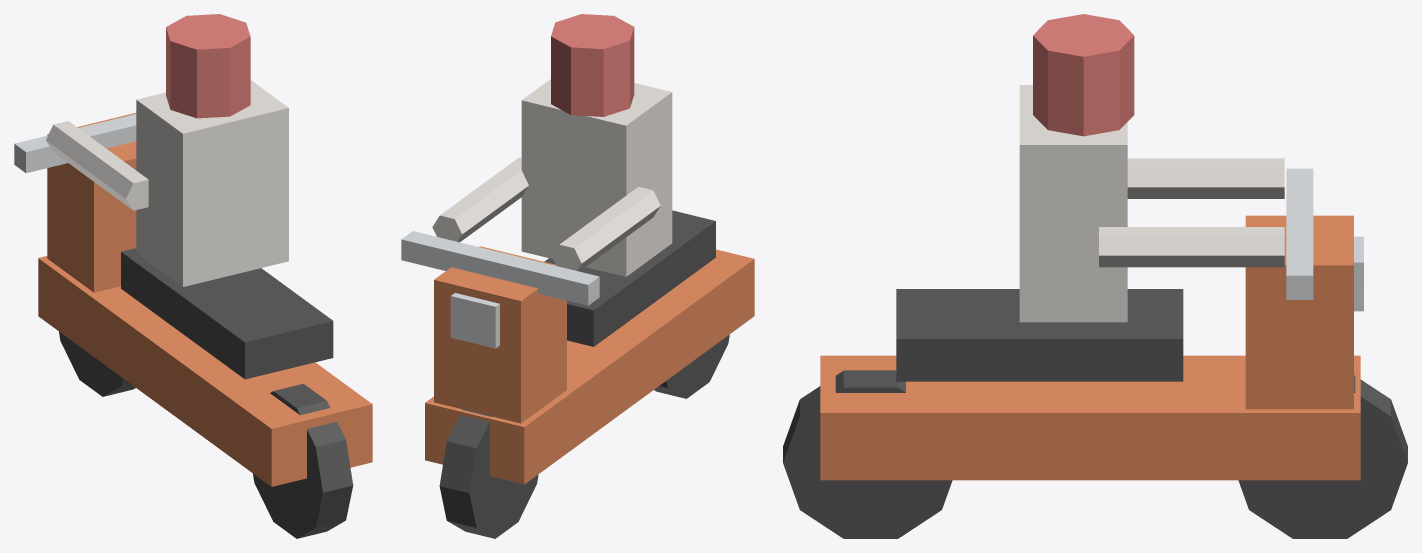
Rendered from two_wheeler.glb.
3 renders of one model, left to right at view 1: azimuth 30°, elevation 25°; view 2: azimuth 150°, elevation 25°; view 3: azimuth 270°, elevation 25°, orthographic. The views are drawn at different scales.
Visible parts, largest first — view 1: two_wheeler; view 2: two_wheeler; view 3: two_wheeler.
Boxes of the visible parts, x1,y1,x2,y2 form: two_wheeler: (14, 14, 372, 538); two_wheeler: (401, 14, 754, 538); two_wheeler: (783, 14, 1407, 538).
Size of the model in its own units: 0.75 by 1.62 by 1.85.
